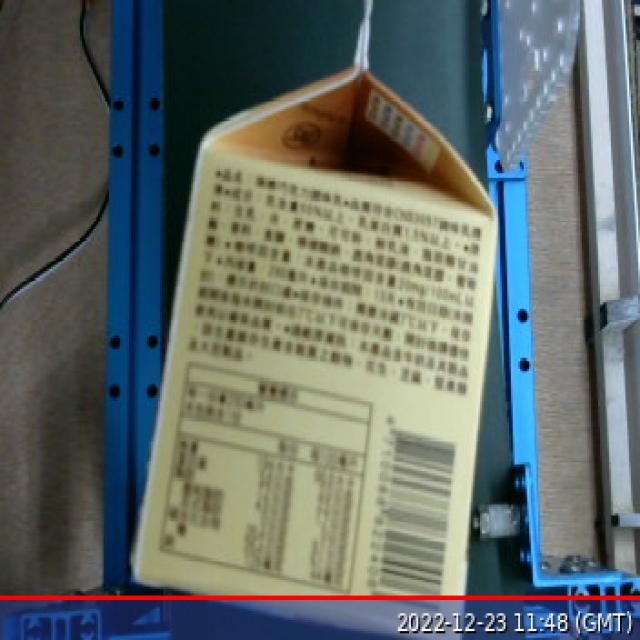non_white_jug: (112, 4, 510, 640)
